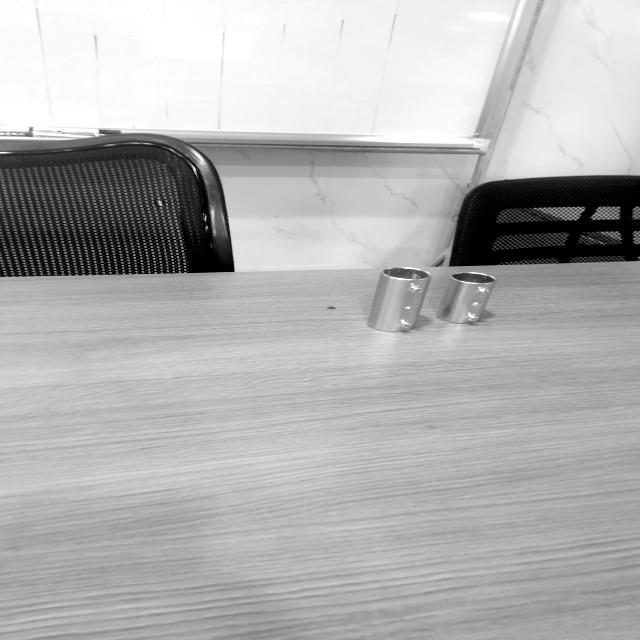Co_Lon: (363, 258, 433, 341)
Co_Nho: (435, 263, 497, 333)
